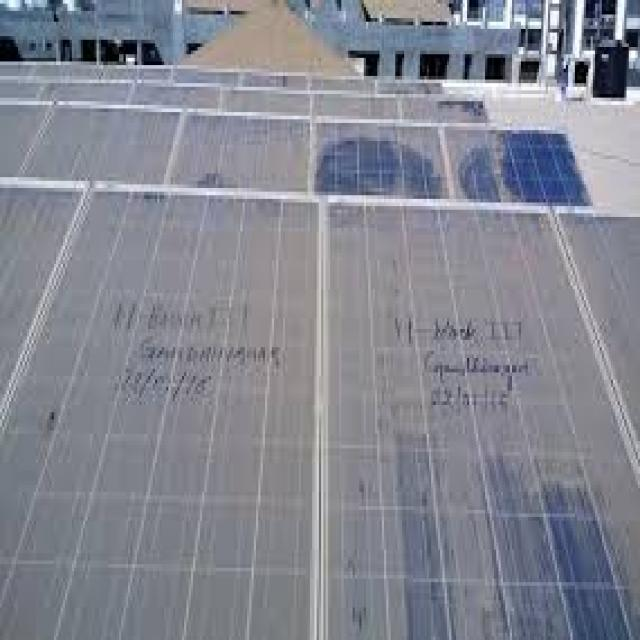dust-solar-panel: (0, 61, 640, 640)
